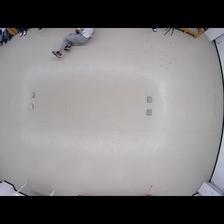fall: (50, 28, 96, 58)
